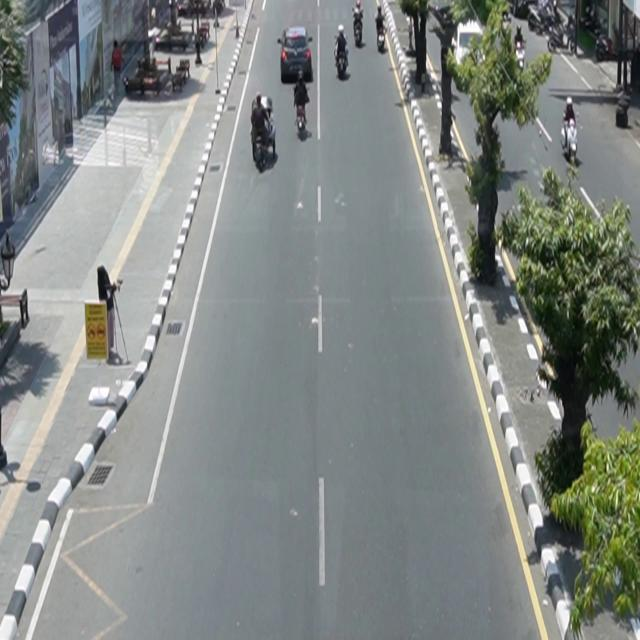car: (278, 26, 315, 84)
